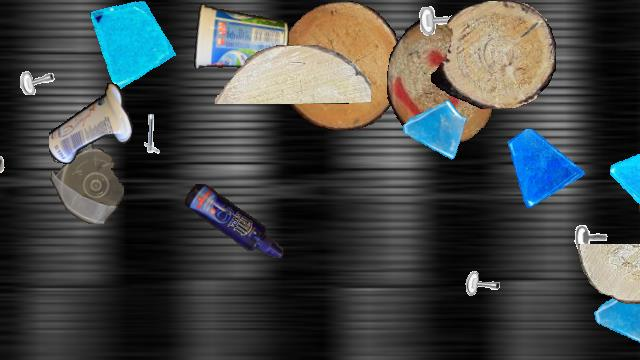glass: (89, 1, 181, 93), (505, 129, 585, 209), (401, 97, 469, 165), (592, 275, 640, 359), (610, 139, 640, 207)
metal: (413, 1, 473, 61), (459, 247, 511, 299), (8, 43, 60, 95), (121, 106, 171, 156), (572, 206, 618, 252), (0, 101, 11, 155), (0, 148, 6, 190)
plastic: (185, 184, 283, 258), (49, 81, 133, 167), (192, 1, 288, 71), (50, 135, 124, 223), (639, 149, 640, 359)
wood: (279, 1, 403, 129), (431, 1, 555, 109), (387, 20, 495, 142), (214, 45, 370, 103), (578, 244, 640, 304)
